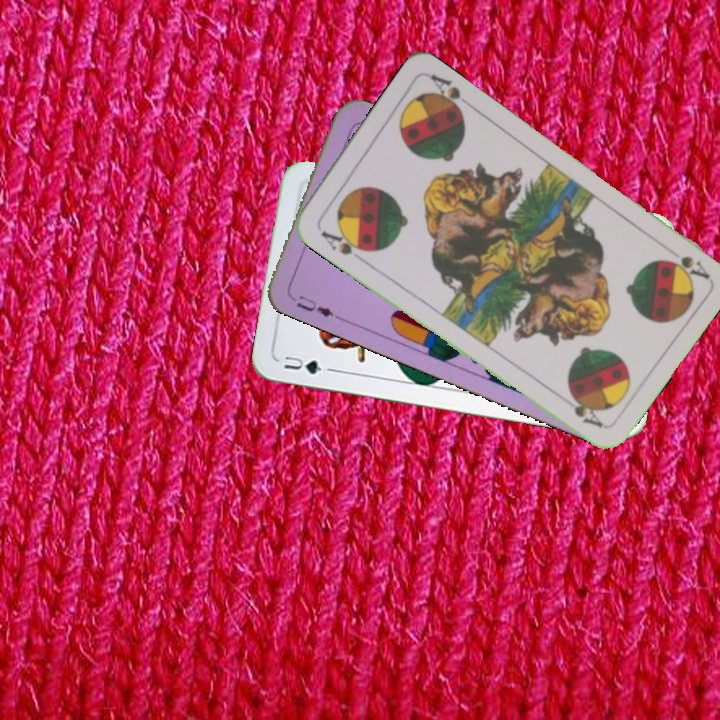EU: (285, 290, 341, 322)
GU: (280, 351, 324, 377)
SA: (658, 241, 712, 283), (316, 225, 372, 264)
